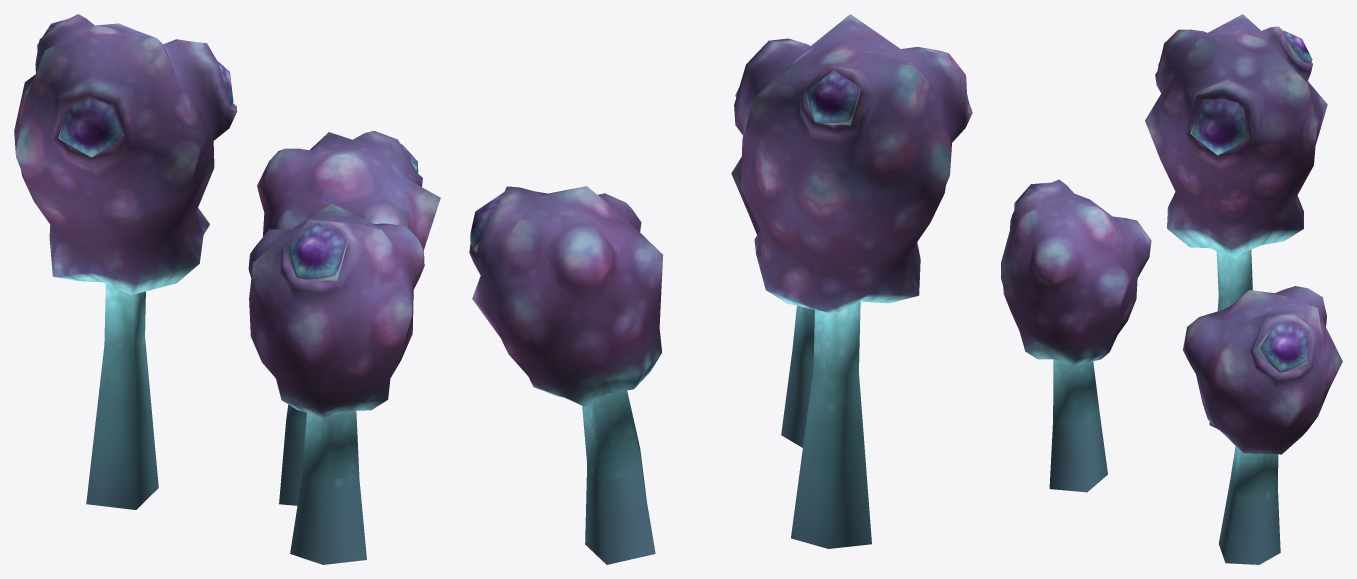
File: mushroom_3.FBX
The picture shows the model from 3 angles, left to right: view 1: azimuth 30°, elevation 25°; view 2: azimuth 150°, elevation 25°; view 3: azimuth 270°, elevation 25°; orthographic projection. The views are drawn at different scales.
Visible parts, largest first — view 1: mushroom_3; view 2: mushroom_3; view 3: mushroom_3.
Part boxes in pixels (x1,y1,x2,y2): mushroom_3: (14,14,440,564); mushroom_3: (469,14,972,564); mushroom_3: (1001,14,1342,564).
Size of the model in its own units: 31.78 by 37.63 by 26.53.
1 material, 1 textured.
